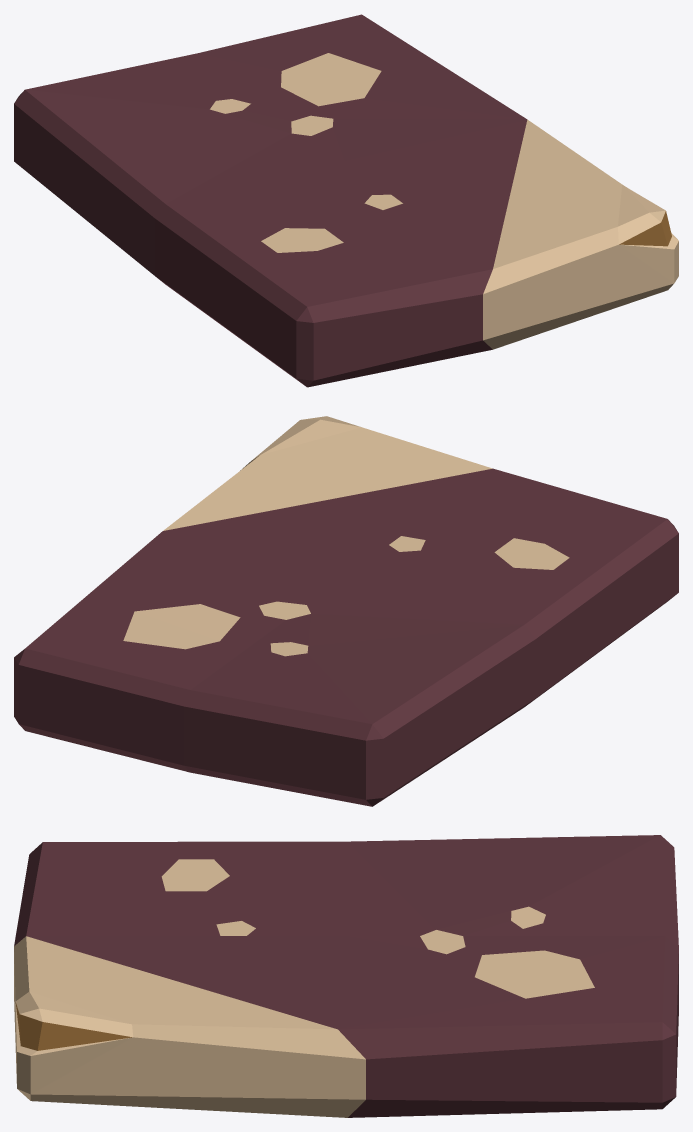
Rendered from mattress-large-dirt.fbx.
The picture shows the model from 3 angles, top to bottom: view 1: azimuth 30°, elevation 25°; view 2: azimuth 150°, elevation 25°; view 3: azimuth 270°, elevation 25°; orthographic projection. The views are drawn at different scales.
Parts seen in each view (by area): view 1: mattress-large-dirt; view 2: mattress-large-dirt; view 3: mattress-large-dirt.
Part boxes in pixels (x1,y1,x2,y2): mattress-large-dirt: (14,14,678,387); mattress-large-dirt: (14,416,678,806); mattress-large-dirt: (14,835,678,1117).
Bounding box in the file's own units: 1.42 × 0.3337 × 2.
